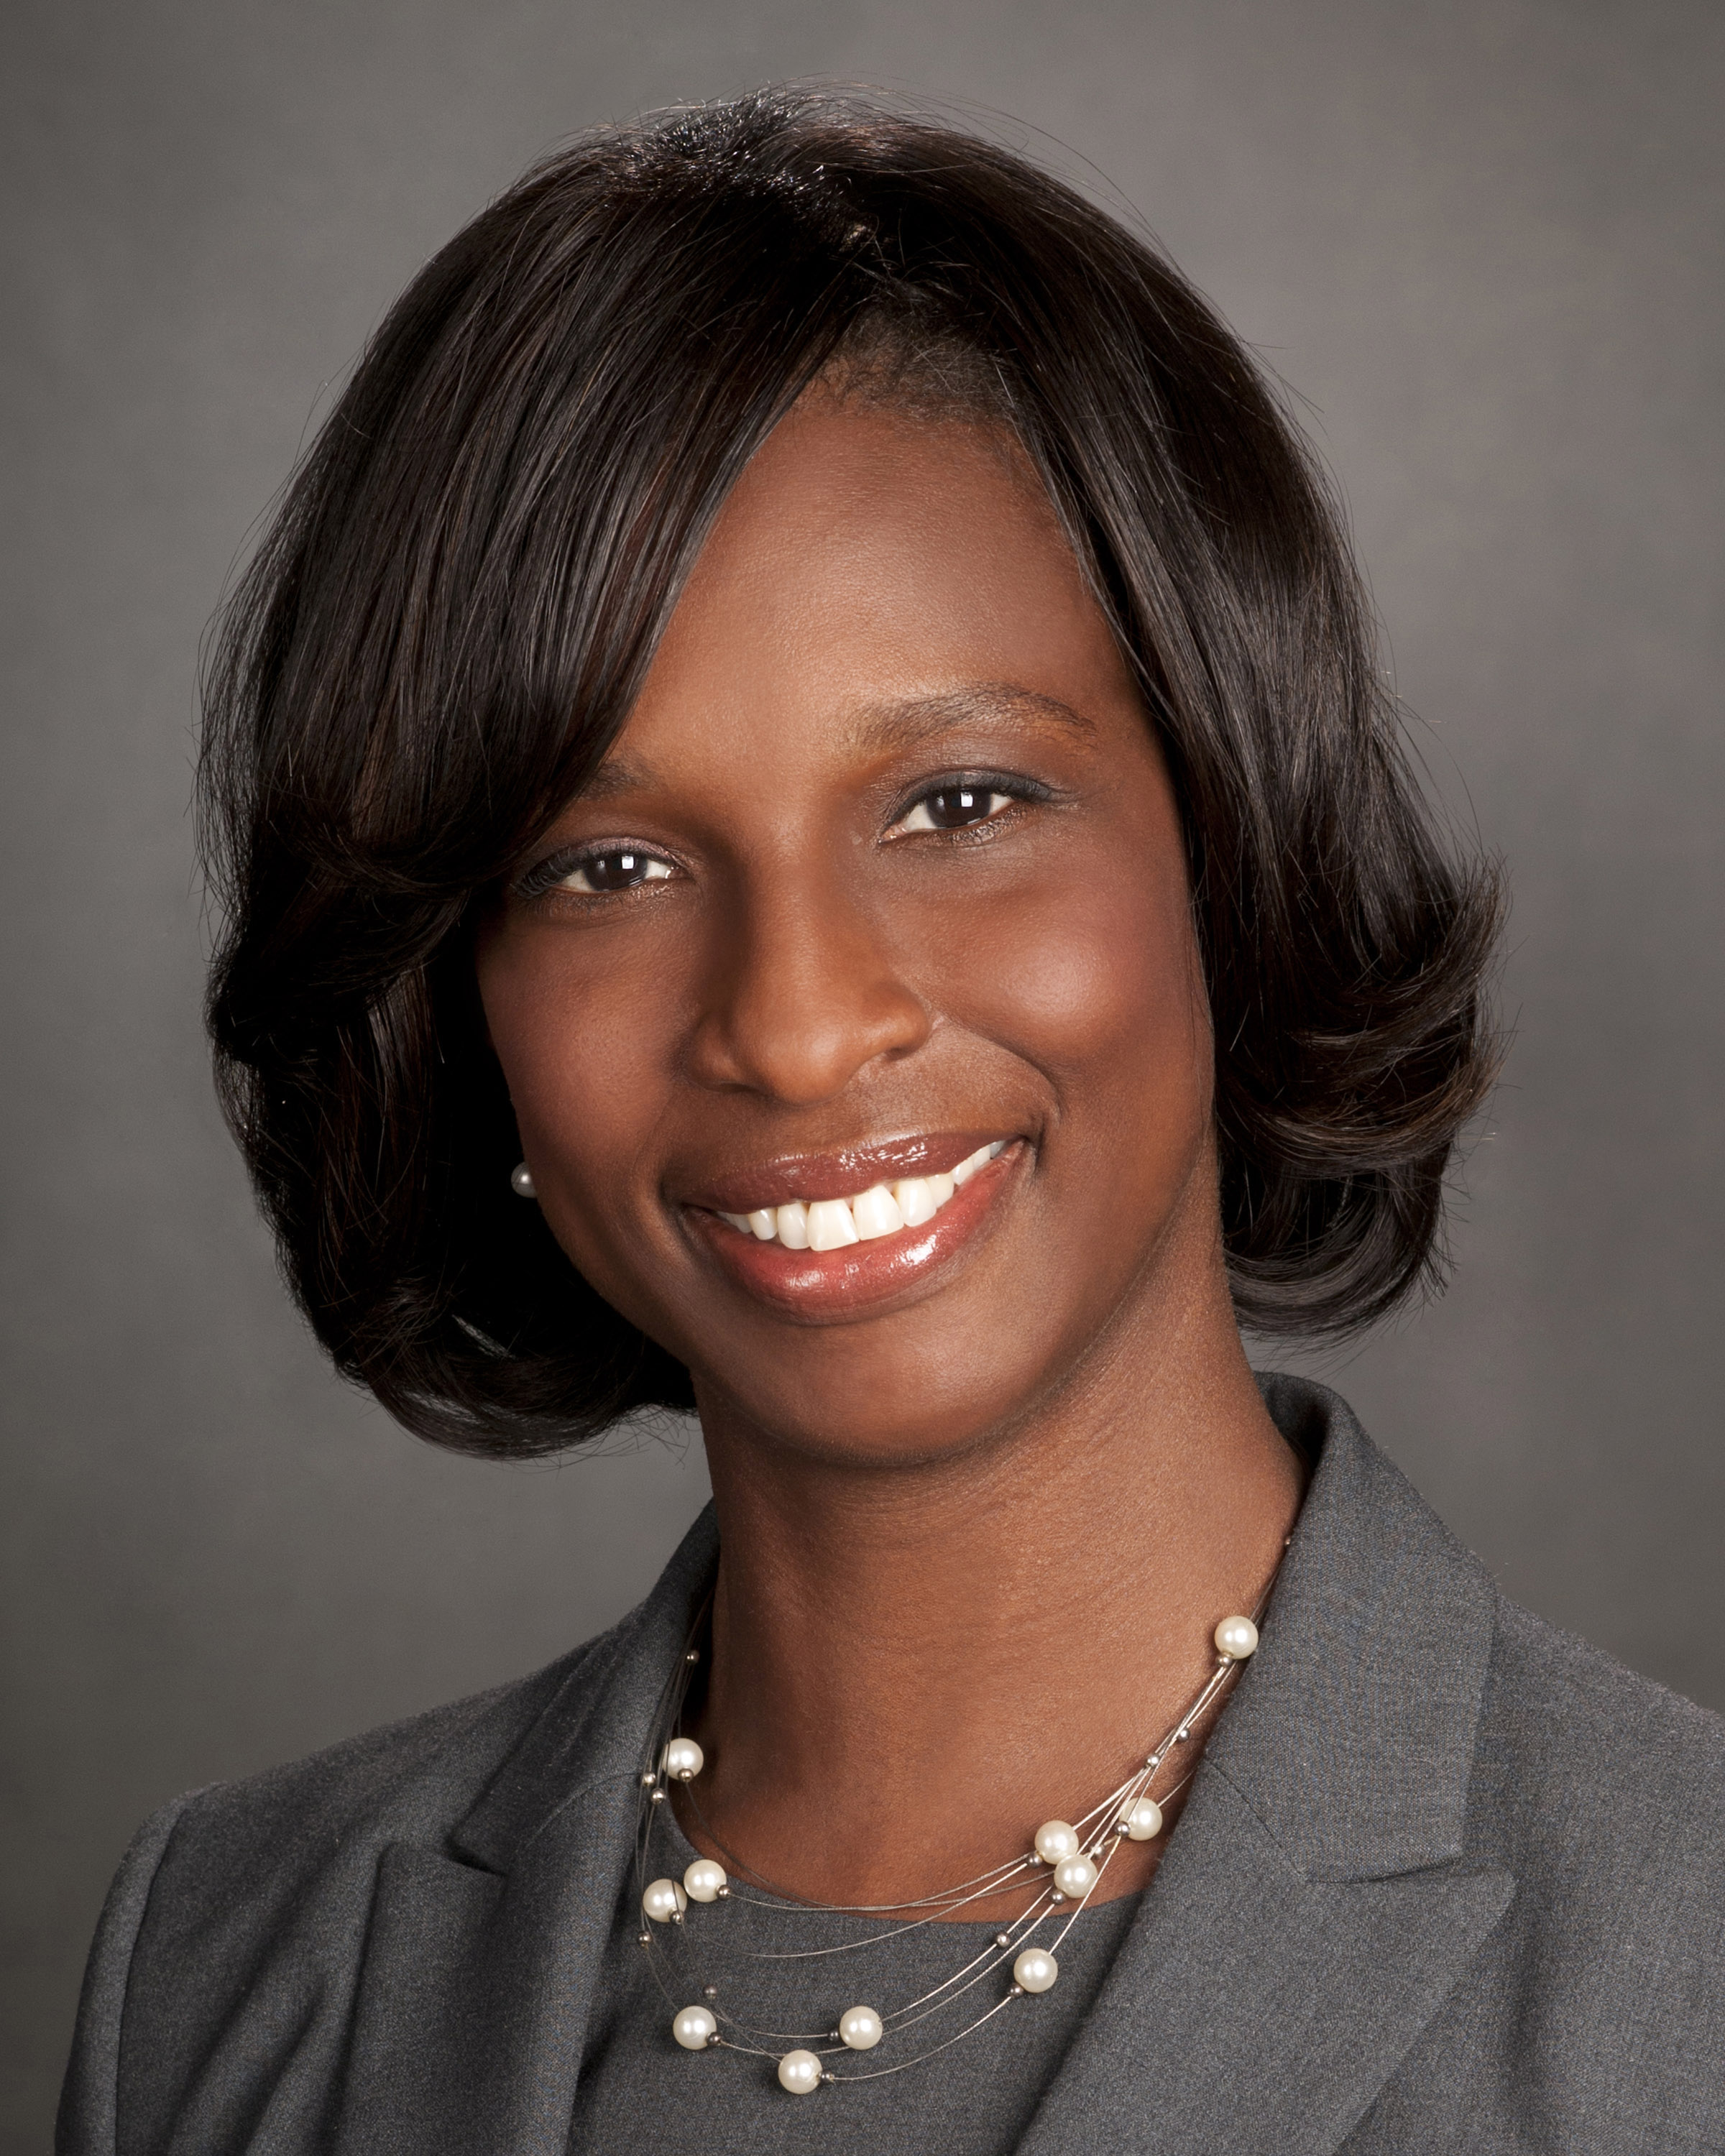bare: (469, 939, 1255, 1424)
